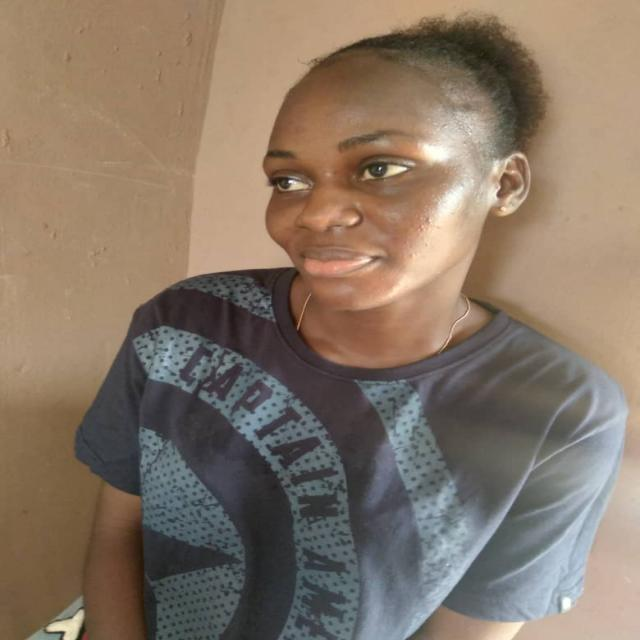sad: (254, 28, 546, 318)
